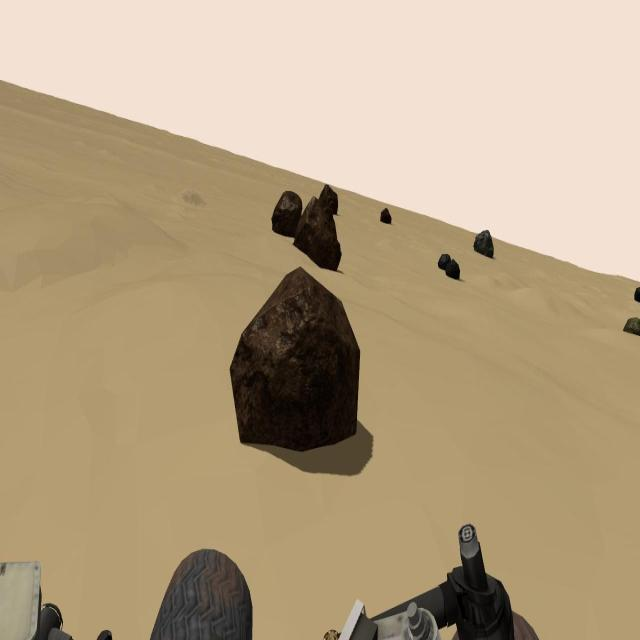rock: (230, 268, 360, 453), (294, 195, 342, 273), (272, 190, 302, 238), (318, 182, 338, 215), (474, 230, 493, 260), (624, 315, 640, 336), (445, 259, 460, 280), (438, 253, 451, 270), (381, 208, 391, 225), (633, 285, 640, 301)
